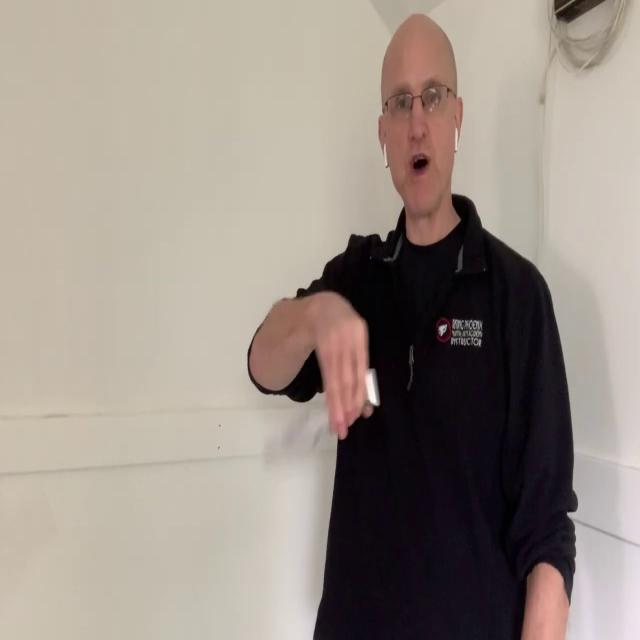Knife_Handle: (265, 291, 381, 460)
